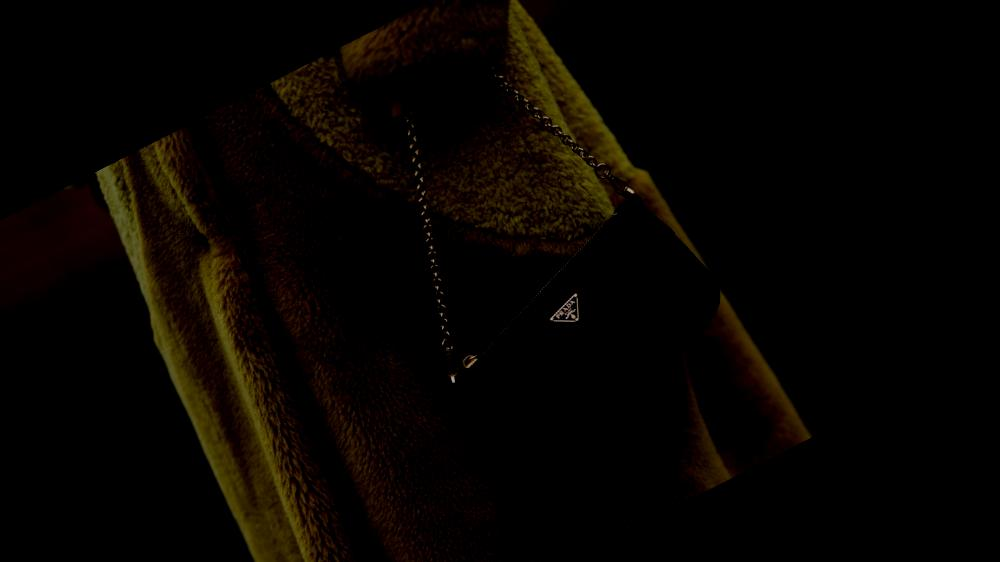PRADA: (545, 292, 589, 332)
